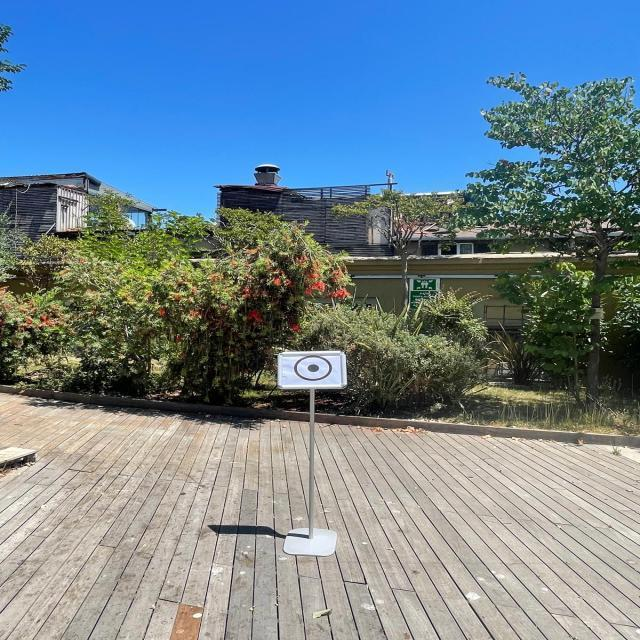Target: (266, 341, 361, 399)
inner: (303, 358, 324, 378)
